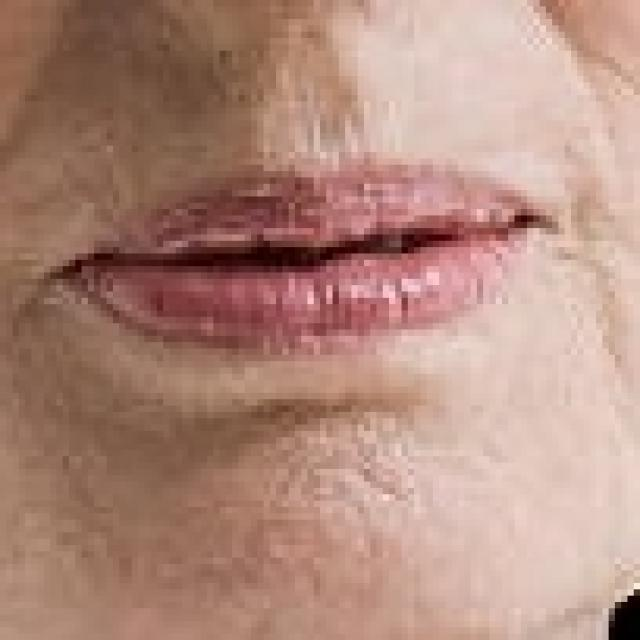closed-mouth: (44, 152, 552, 355)
